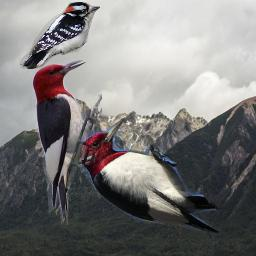Woodpecker: (71, 115, 230, 235), (32, 59, 102, 225), (20, 2, 100, 69)
